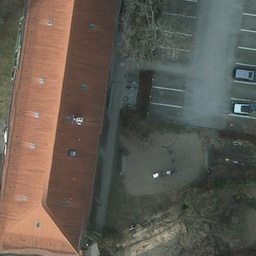car: (230, 101, 256, 114), (232, 67, 254, 82)
